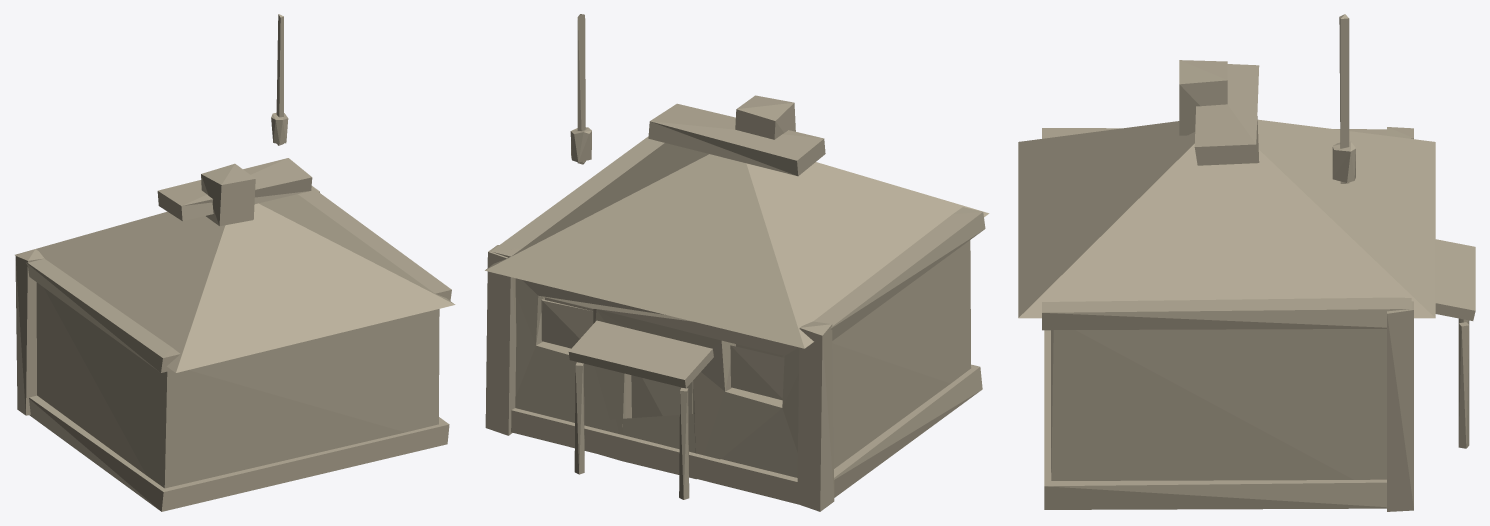
File: camp_hq.lod2.glb
3 renders of one model, left to right at view 1: azimuth 30°, elevation 25°; view 2: azimuth 150°, elevation 25°; view 3: azimuth 270°, elevation 25°, orthographic. The views are drawn at different scales.
Size of the model in its own units: 3.74 by 4.37 by 3.9.
